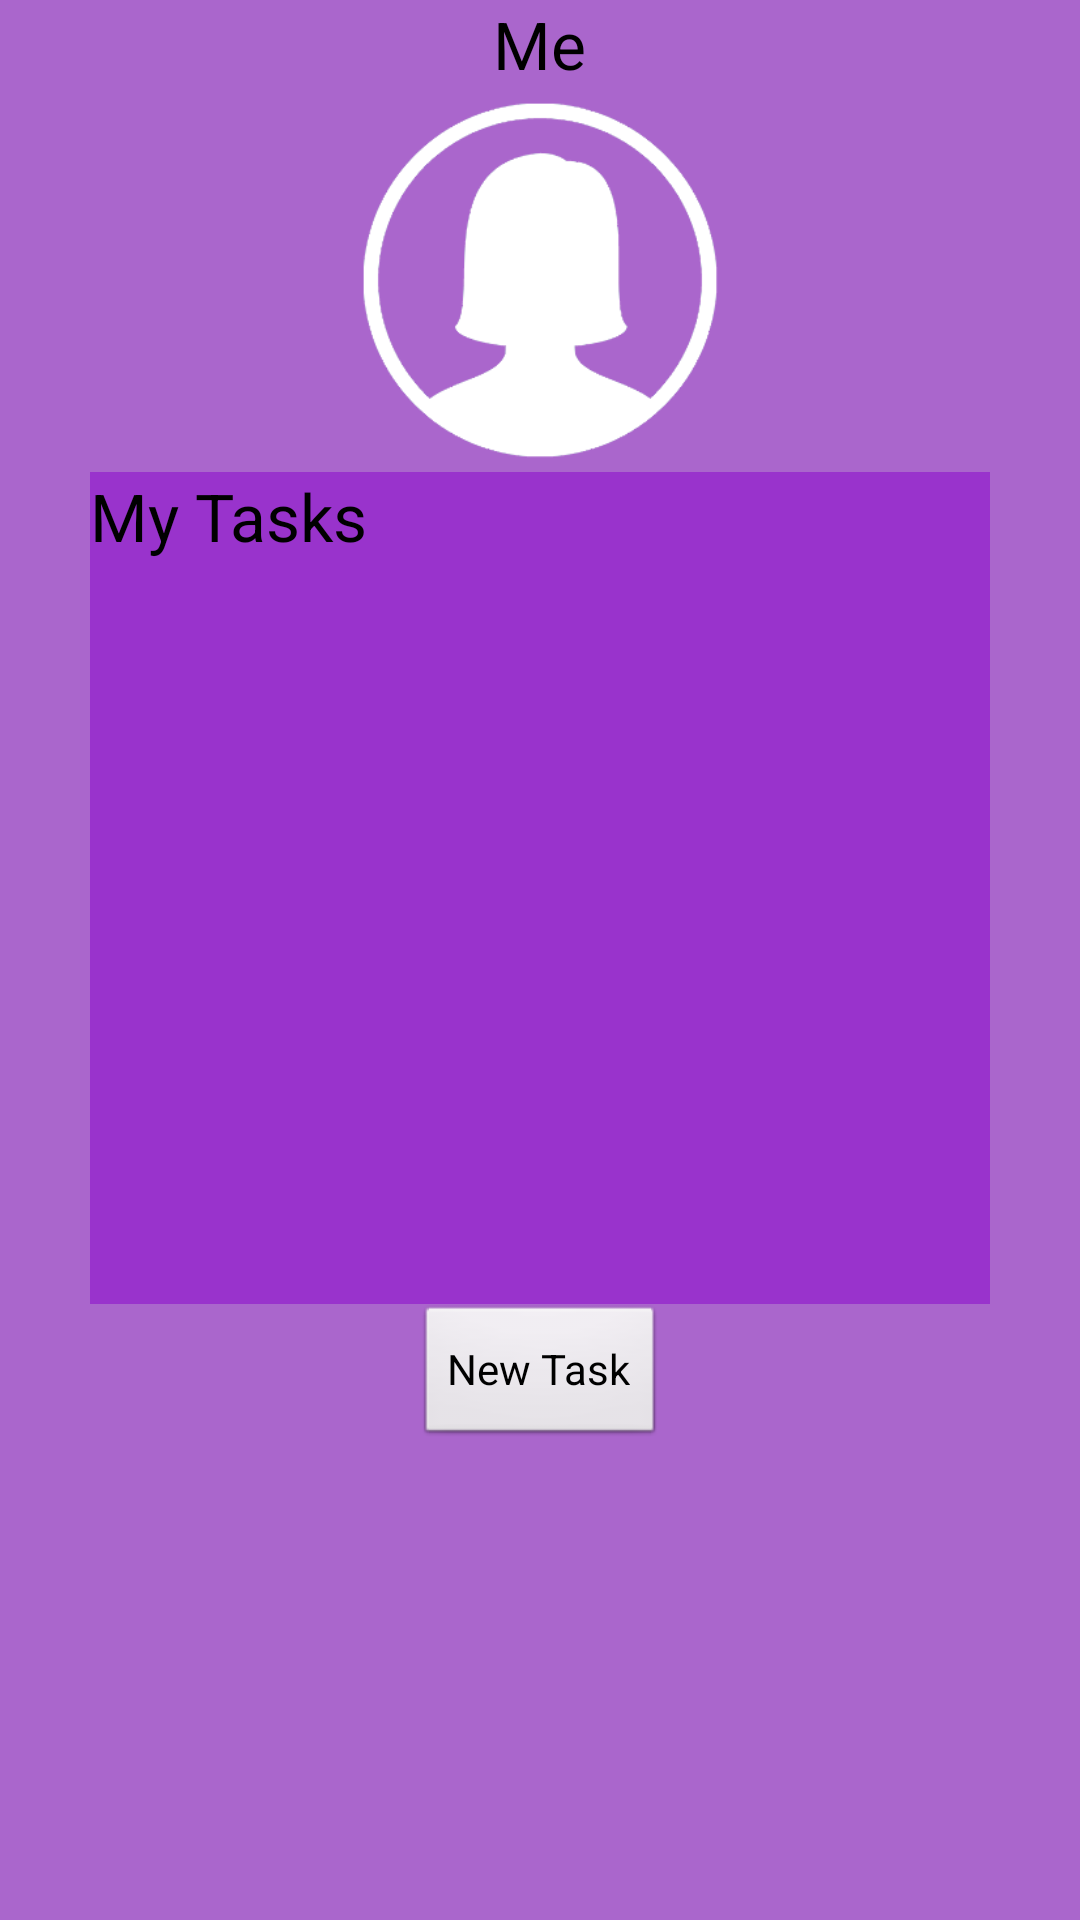

Point at icon controls on the screen. Image size 1080x1920, points as (x,y).
female: (540,280)
